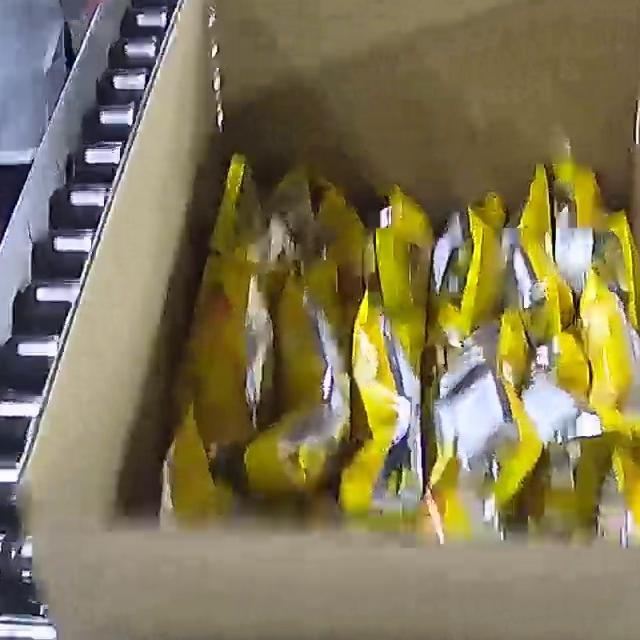salted: (161, 144, 640, 545)
